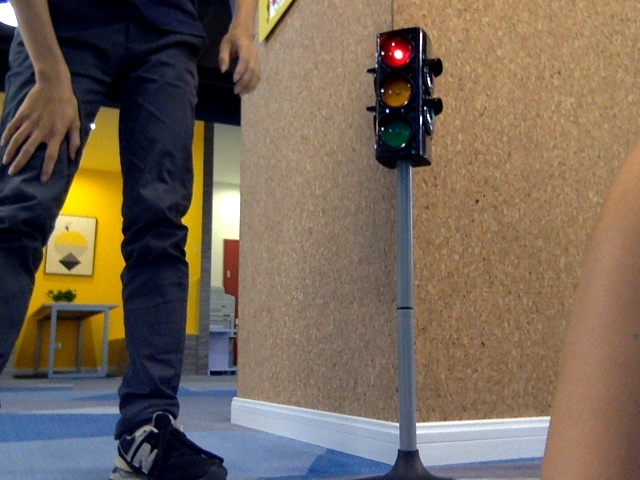red: (377, 37, 414, 147)
